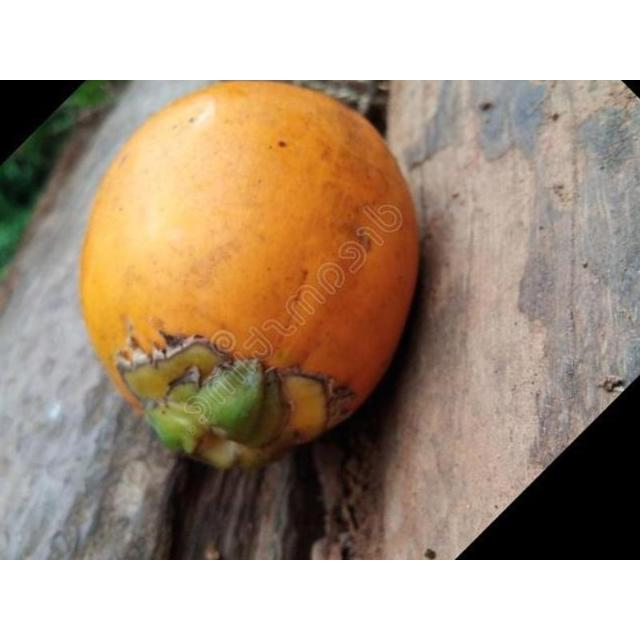good: (76, 82, 421, 472)
